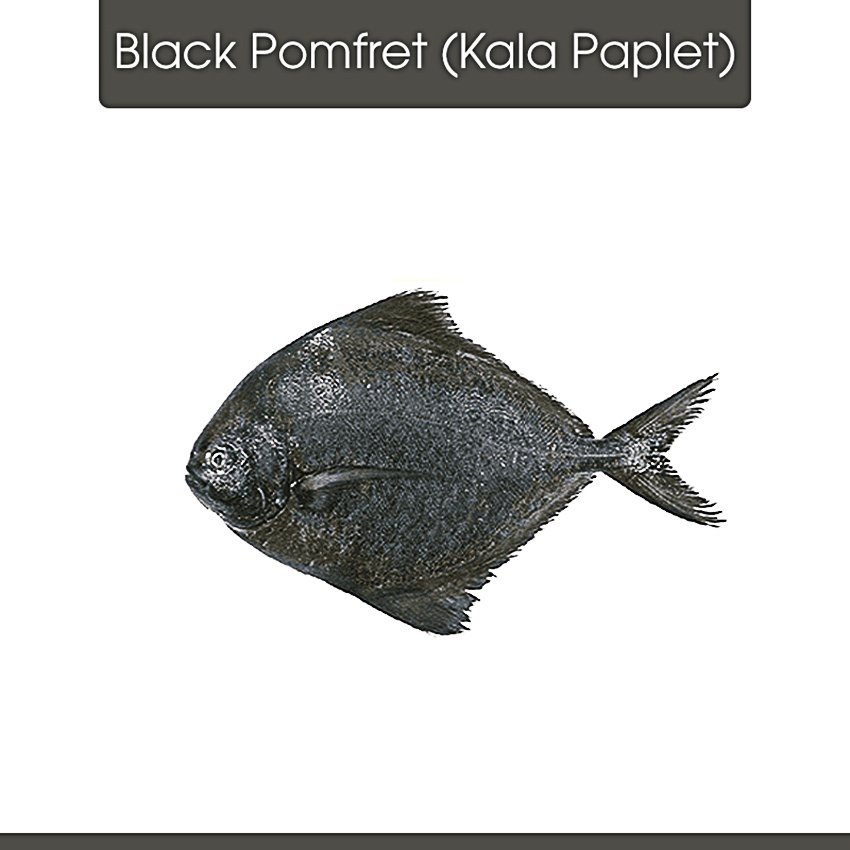Pomfret: (177, 285, 729, 649)
